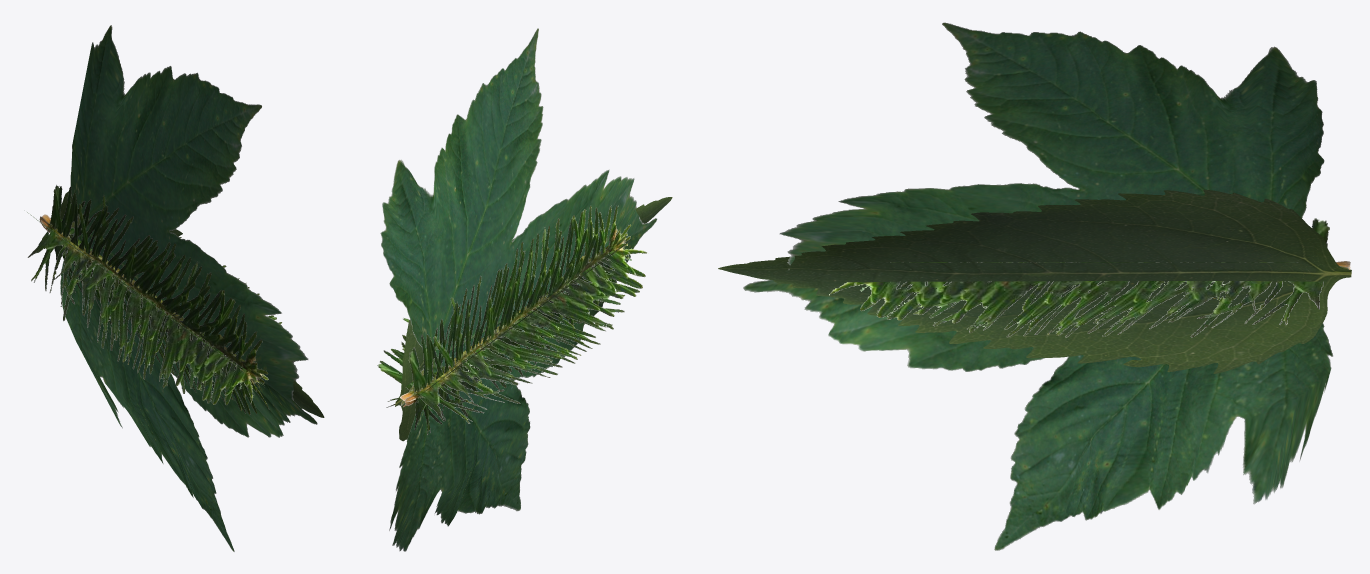
The model's file is leaves.glb.
The picture shows the model from 3 angles, left to right: view 1: azimuth 30°, elevation 25°; view 2: azimuth 150°, elevation 25°; view 3: azimuth 270°, elevation 25°; orthographic projection. The views are drawn at different scales.
Visible parts, largest first — view 1: oak, pine, plain; view 2: oak, pine, plain; view 3: oak, plain, pine.
Part boxes in pixels (x1=…): oak: x1=60, y1=25, x2=317, y2=551; pine: x1=24, y1=185, x2=282, y2=415; plain: x1=50, y1=191, x2=324, y2=417; oak: x1=380, y1=28, x2=657, y2=551; pine: x1=377, y1=205, x2=648, y2=434; plain: x1=395, y1=197, x2=672, y2=441; oak: x1=743, y1=22, x2=1348, y2=550; plain: x1=718, y1=189, x2=1351, y2=373; pine: x1=829, y1=218, x2=1350, y2=337.
Bounding box in the file's own units: 0.7702 × 3.22 × 3.45.
3 materials, 3 textured.
